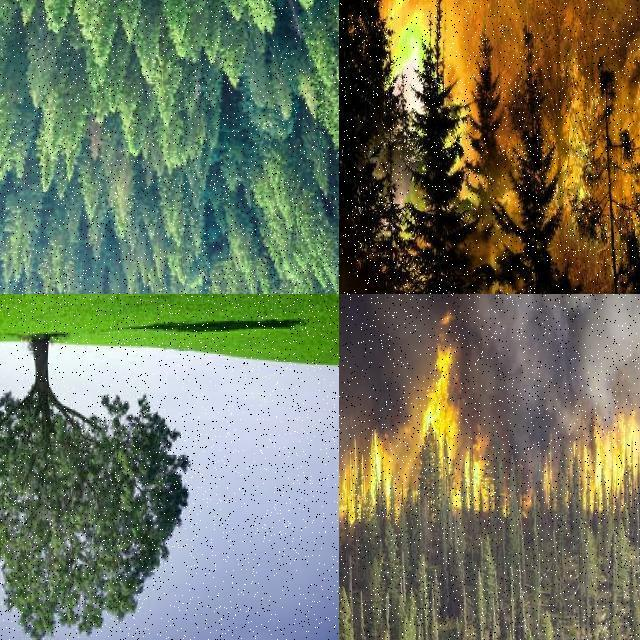tree: (0, 320, 200, 640), (408, 0, 496, 294), (340, 0, 420, 288), (498, 2, 576, 294), (578, 56, 638, 294), (466, 24, 506, 226), (15, 0, 93, 68), (115, 0, 167, 70), (222, 0, 278, 64), (504, 450, 524, 580), (86, 1, 122, 72), (269, 38, 299, 122), (290, 0, 338, 52), (9, 188, 37, 276), (23, 30, 53, 110), (474, 536, 498, 634), (108, 160, 136, 240), (122, 76, 150, 156), (299, 8, 331, 76), (304, 119, 332, 195), (34, 105, 58, 191), (218, 19, 246, 92), (418, 422, 442, 506), (0, 0, 28, 70), (577, 528, 599, 616), (0, 0, 26, 72), (133, 9, 159, 80), (223, 196, 249, 264), (177, 1, 233, 32), (242, 44, 270, 106), (0, 0, 24, 68), (21, 0, 59, 42), (304, 0, 340, 44), (182, 0, 218, 44), (0, 0, 28, 56), (0, 0, 22, 70), (0, 62, 18, 146), (79, 161, 103, 223), (158, 0, 190, 46), (160, 176, 183, 240), (128, 0, 168, 34), (56, 0, 90, 40), (202, 1, 222, 66), (278, 0, 314, 36), (72, 1, 105, 40), (0, 1, 28, 44), (229, 0, 259, 40), (122, 0, 154, 36), (212, 0, 244, 36), (118, 0, 146, 40), (171, 0, 205, 32), (554, 464, 570, 532), (1, 200, 16, 272), (220, 138, 240, 190), (246, 0, 278, 32), (1, 0, 16, 68), (153, 82, 175, 128), (613, 520, 627, 592), (142, 1, 170, 36), (44, 1, 72, 36), (202, 62, 222, 110), (339, 488, 351, 568), (203, 99, 221, 149), (0, 205, 12, 277), (338, 586, 354, 640), (41, 0, 68, 30), (208, 0, 240, 24), (338, 526, 346, 622), (174, 0, 202, 26), (0, 236, 12, 294), (268, 0, 292, 28), (0, 150, 14, 198), (18, 1, 38, 32), (0, 0, 10, 56), (1, 0, 20, 28), (0, 100, 12, 144), (536, 608, 552, 640), (7, 1, 29, 23), (316, 0, 339, 20), (339, 457, 345, 531), (0, 1, 12, 36), (0, 172, 10, 212), (339, 590, 347, 640), (0, 0, 12, 32), (340, 522, 344, 602)
